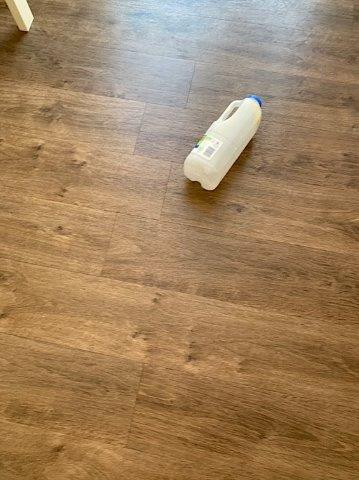botolplastik: (184, 95, 263, 189)
